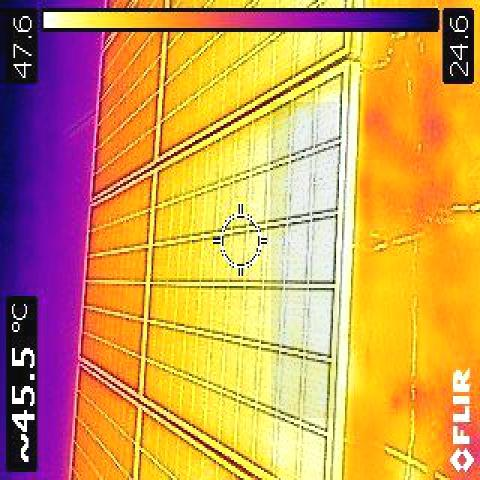fault: (271, 102, 337, 418)
